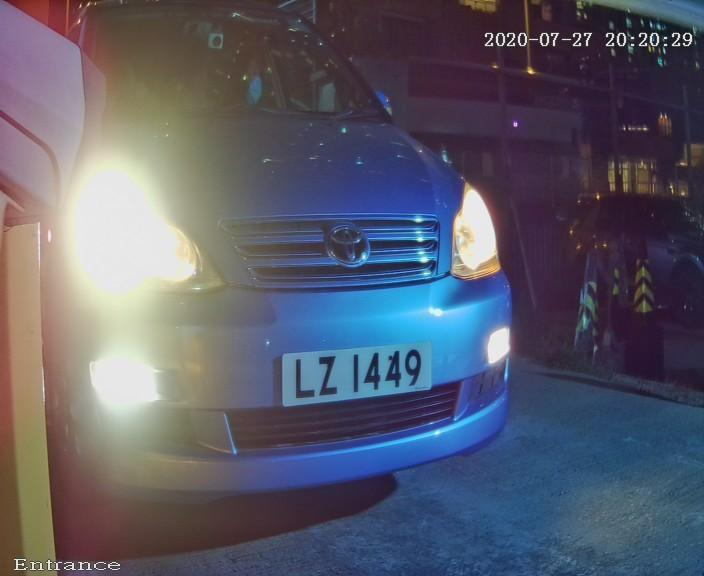privatecar: (19, 13, 547, 538)
